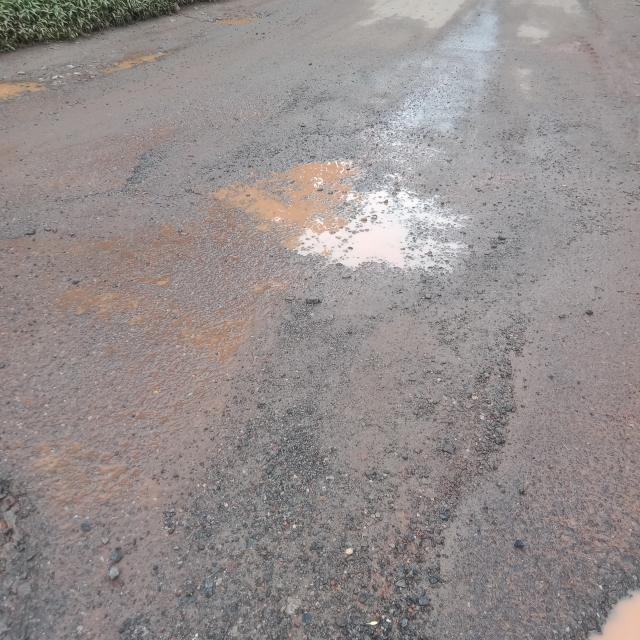pothole: (192, 104, 476, 286), (1, 468, 45, 615), (49, 278, 140, 316), (98, 44, 192, 76), (1, 227, 83, 255), (203, 6, 276, 30), (1, 75, 48, 104)
